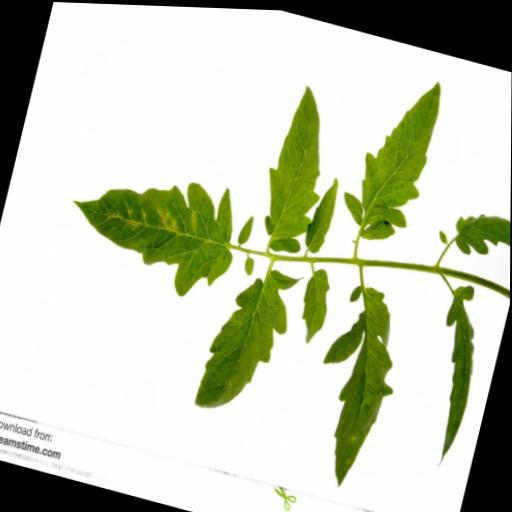Healthy: (295, 274, 415, 494), (335, 60, 447, 248), (192, 252, 303, 424), (251, 75, 344, 255), (412, 275, 494, 466), (449, 199, 511, 262), (293, 259, 337, 344), (301, 168, 342, 253)
